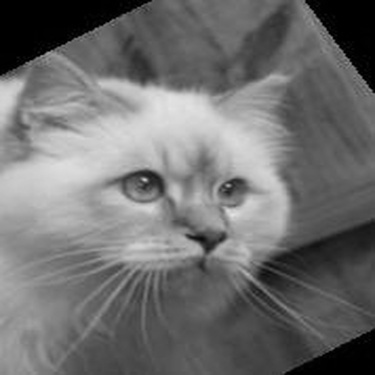cat: (6, 50, 298, 373)
